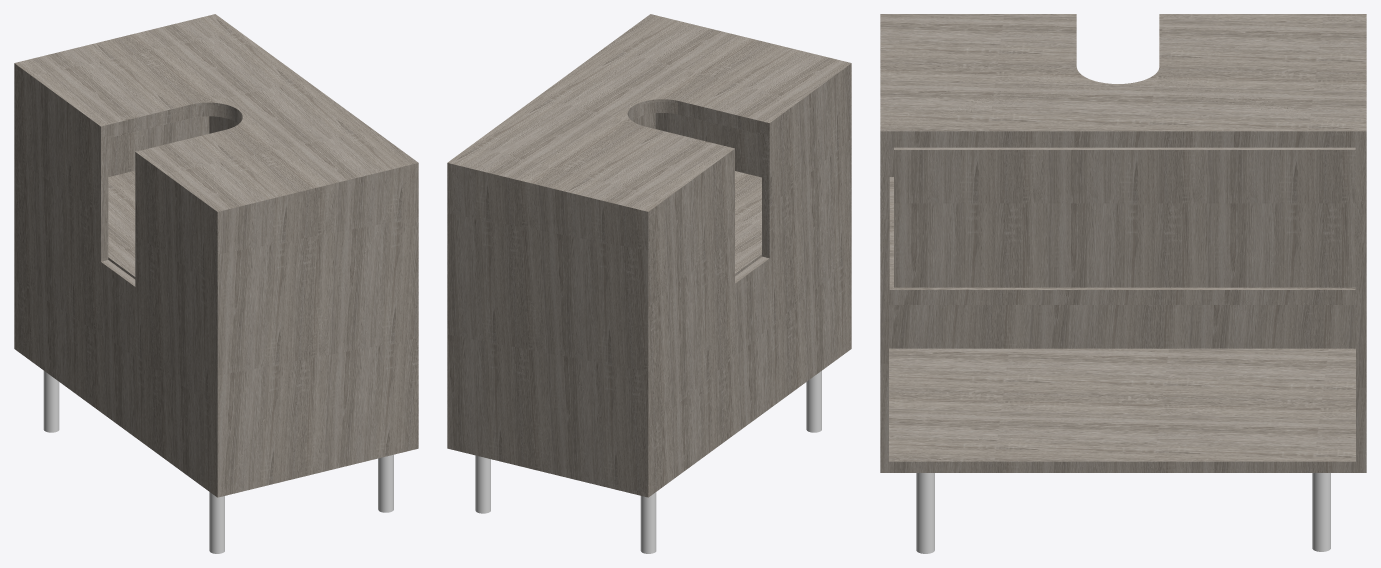
Rendered from Waschtischunterbau.glb.
3 views of the same model, side by side, from view 1: azimuth 30°, elevation 25°; view 2: azimuth 150°, elevation 25°; view 3: azimuth 270°, elevation 25° (orthographic). The views are drawn at different scales.
Visible parts, largest first — view 1: Mesh1 Component_846 G_20_Waschtischunterbau_dwg1 Model, Mesh6 Component_851 G_20_Waschtischunterbau_dwg1 Model, Mesh5 Component_850 G_20_Waschtischunterbau_dwg1 Model, Mesh3 Component_848 G_20_Waschtischunterbau_dwg1 Model; view 2: Mesh1 Component_846 G_20_Waschtischunterbau_dwg1 Model, Mesh6 Component_851 G_20_Waschtischunterbau_dwg1 Model, Mesh4 Component_849 G_20_Waschtischunterbau_dwg1 Model, Mesh5 Component_850 G_20_Waschtischunterbau_dwg1 Model; view 3: Mesh1 Component_846 G_20_Waschtischunterbau_dwg1 Model, Mesh2 Component_847 G_20_Waschtischunterbau_dwg1 Model, Mesh3 Component_848 G_20_Waschtischunterbau_dwg1 Model, Mesh4 Component_849 G_20_Waschtischunterbau_dwg1 Model.
Part boxes in pixels (<box>): Mesh1 Component_846 G_20_Waschtischunterbau_dwg1 Model: <box>14,14,418,497</box>; Mesh6 Component_851 G_20_Waschtischunterbau_dwg1 Model: <box>43,371,59,432</box>; Mesh5 Component_850 G_20_Waschtischunterbau_dwg1 Model: <box>209,492,224,553</box>; Mesh3 Component_848 G_20_Waschtischunterbau_dwg1 Model: <box>378,454,393,512</box>; Mesh1 Component_846 G_20_Waschtischunterbau_dwg1 Model: <box>447,14,851,497</box>; Mesh6 Component_851 G_20_Waschtischunterbau_dwg1 Model: <box>640,492,656,553</box>; Mesh4 Component_849 G_20_Waschtischunterbau_dwg1 Model: <box>475,455,490,513</box>; Mesh5 Component_850 G_20_Waschtischunterbau_dwg1 Model: <box>806,371,821,432</box>; Mesh1 Component_846 G_20_Waschtischunterbau_dwg1 Model: <box>880,14,1366,472</box>; Mesh2 Component_847 G_20_Waschtischunterbau_dwg1 Model: <box>894,147,1355,287</box>; Mesh3 Component_848 G_20_Waschtischunterbau_dwg1 Model: <box>916,473,934,553</box>; Mesh4 Component_849 G_20_Waschtischunterbau_dwg1 Model: <box>1312,473,1330,551</box>.
Bounding box in the file's own units: 44.23 × 74.98 × 77.41.
Materials: 3 (2 with a texture image).
